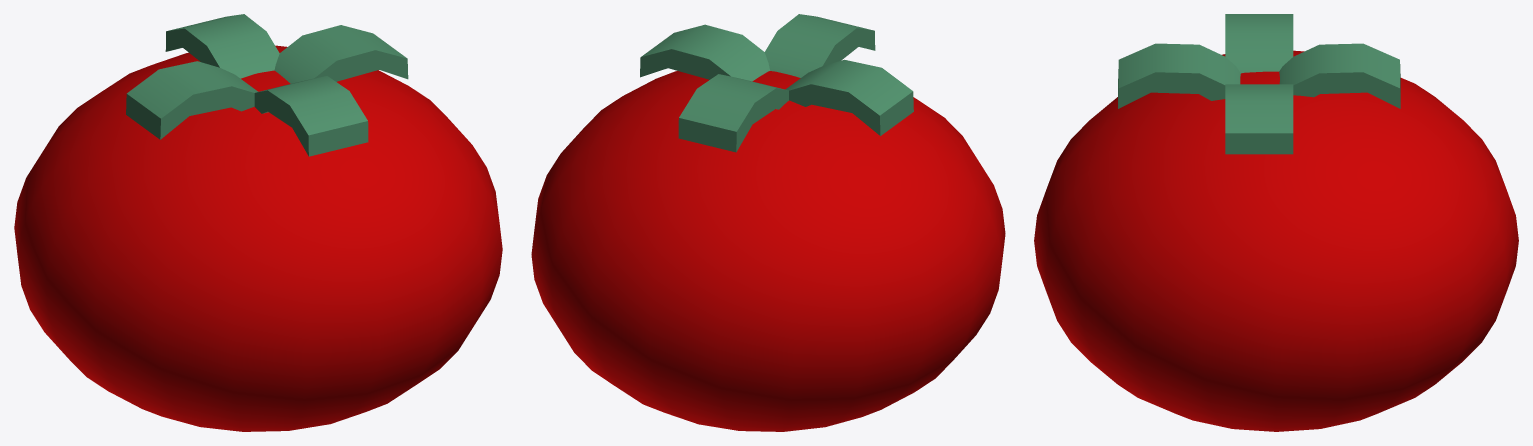
The model's file is Tomato.fbx.
3 renders of one model, left to right at view 1: azimuth 30°, elevation 25°; view 2: azimuth 150°, elevation 25°; view 3: azimuth 270°, elevation 25°, orthographic. The views are drawn at different scales.
Visible parts, largest first — view 1: Tomato2; view 2: Tomato2; view 3: Tomato2.
Part boxes in pixels (x1=…): Tomato2: x1=14, y1=14, x2=502, y2=431; Tomato2: x1=531, y1=14, x2=1005, y2=431; Tomato2: x1=1034, y1=14, x2=1518, y2=431.
Bounding box in the file's own units: 3.95 × 3.1 × 3.95.
